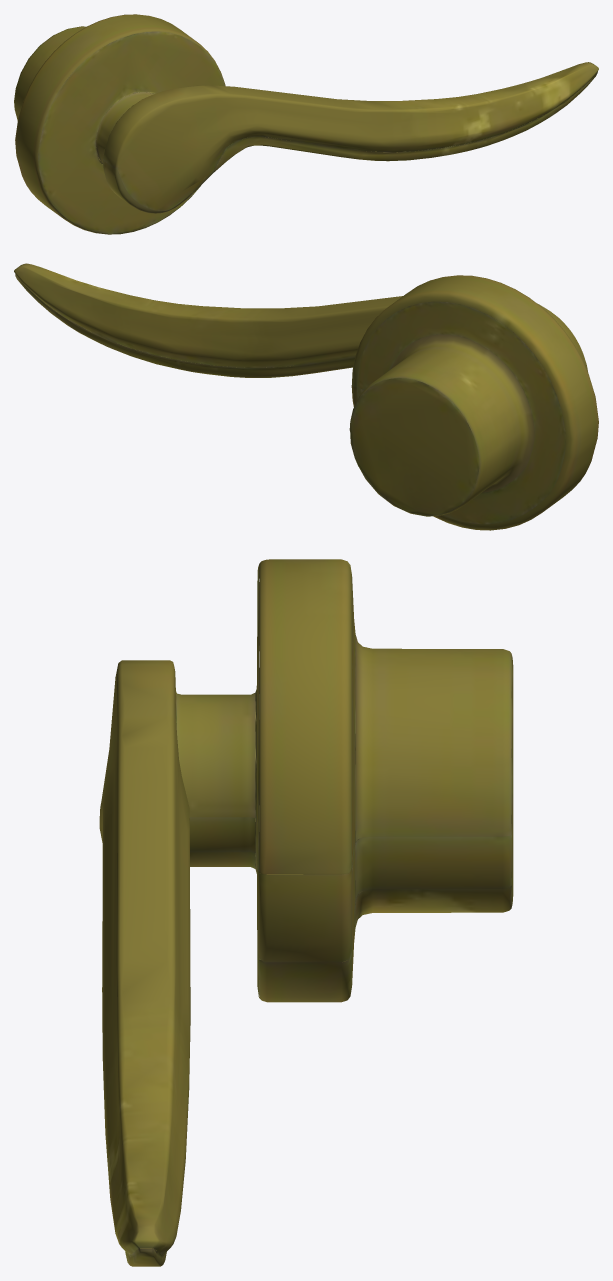
Rendered from picaporte_laton.glb.
3 renders of one model, top to bottom at view 1: azimuth 30°, elevation 25°; view 2: azimuth 150°, elevation 25°; view 3: azimuth 270°, elevation 25°, orthographic. The views are drawn at different scales.
Visible parts, largest first — view 1: Object_2; view 2: Object_2; view 3: Object_2.
Boxes of the visible parts, x1,y1,x2,y2 form: Object_2: (14, 14, 598, 234); Object_2: (14, 263, 598, 530); Object_2: (99, 559, 513, 1266).
Bounding box in the file's own units: 0.13 × 0.0469 × 0.0438.
1 material, 1 textured.
